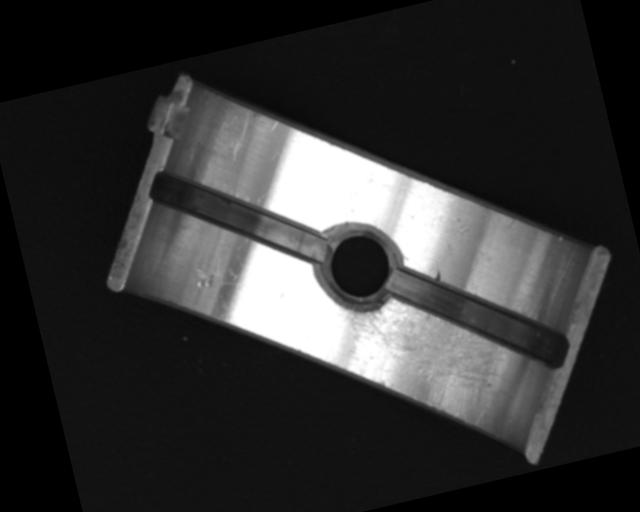bruise: (191, 263, 218, 292), (430, 267, 443, 284)
gap: (382, 235, 573, 400), (148, 140, 327, 294)
hole: (305, 212, 409, 317)
scratch: (331, 265, 515, 449)
